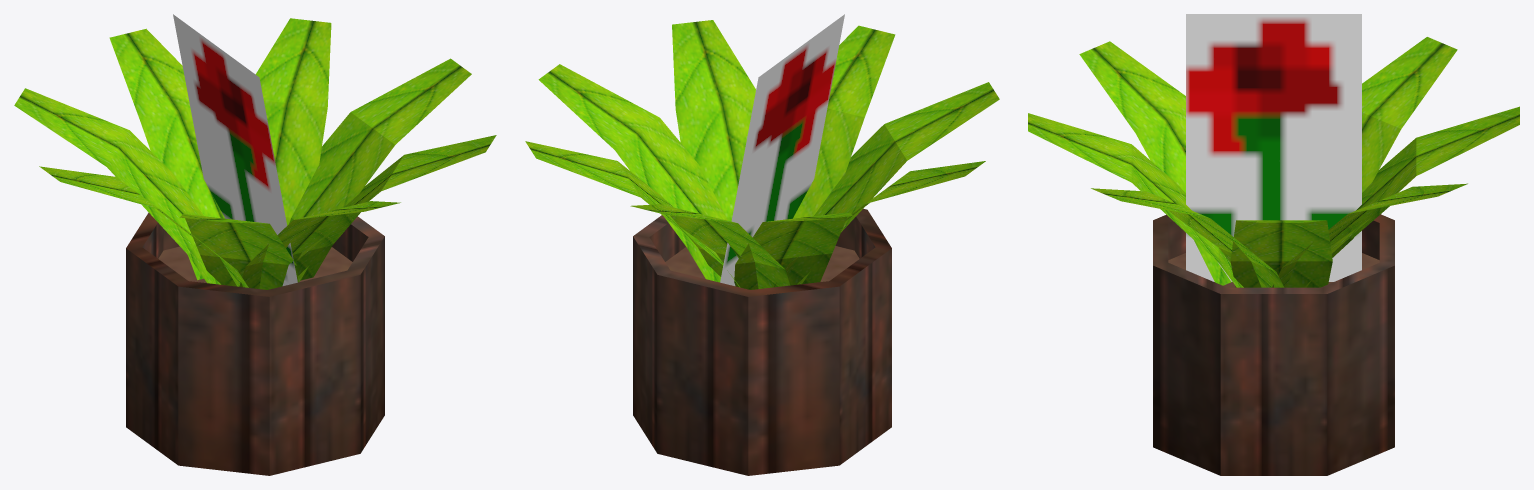
The model's file is Flour2.fbx.
The picture shows the model from 3 angles, left to right: view 1: azimuth 30°, elevation 25°; view 2: azimuth 150°, elevation 25°; view 3: azimuth 270°, elevation 25°; orthographic projection.
Parts seen in each view (by area): view 1: Flour2; view 2: Flour2; view 3: Flour2.
Boxes of the visible parts, box(x1,y1,x2,y2) form: Flour2: box(14, 14, 496, 475); Flour2: box(525, 14, 999, 475); Flour2: box(1028, 14, 1519, 475).
Bounding box in the file's own units: 406 × 356 × 406.
